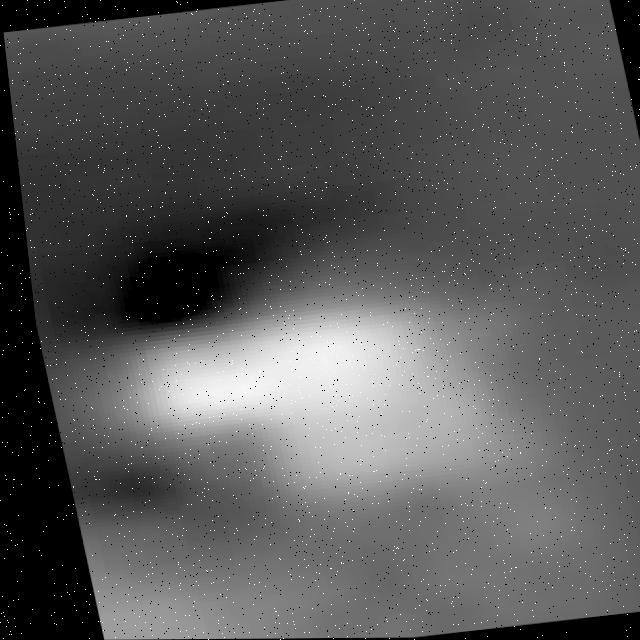person: (30, 237, 577, 542)
